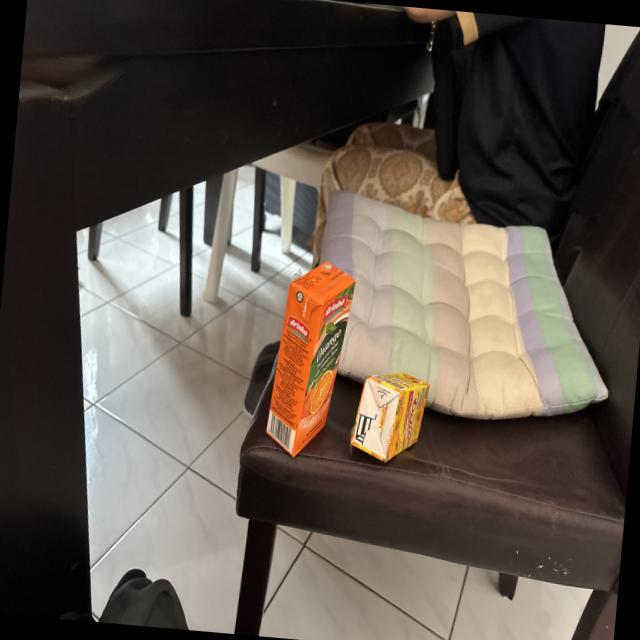drink_carton: (257, 246, 360, 472), (342, 359, 436, 476)
